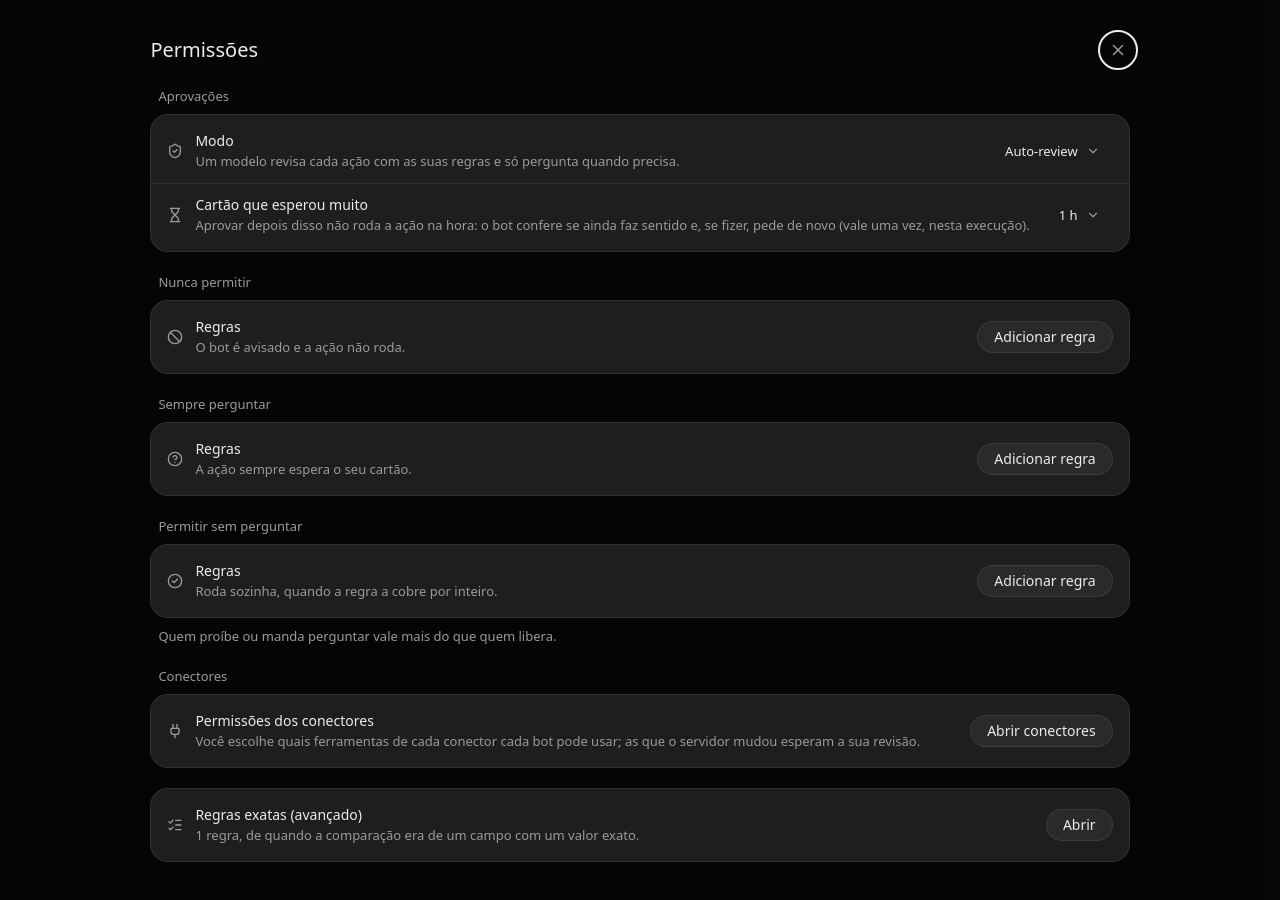
Test: Permissões: the old exact rules › one quiet row at the end with the count; it opens the old list to read and remove
Later steps or results of the test are not shown.
Expected: the element with test id "rules-exact" shows "Regras exatas (avançado)", x1=195 y1=805 x2=362 y2=824
Expected: the element with test id "rules-exact" shows "1 regra", x1=195 y1=826 x2=639 y2=844
Step 1. Click the button with test id "rules-exact-open" → [1079, 825], box x1=1046 y1=809 x2=1113 y2=841
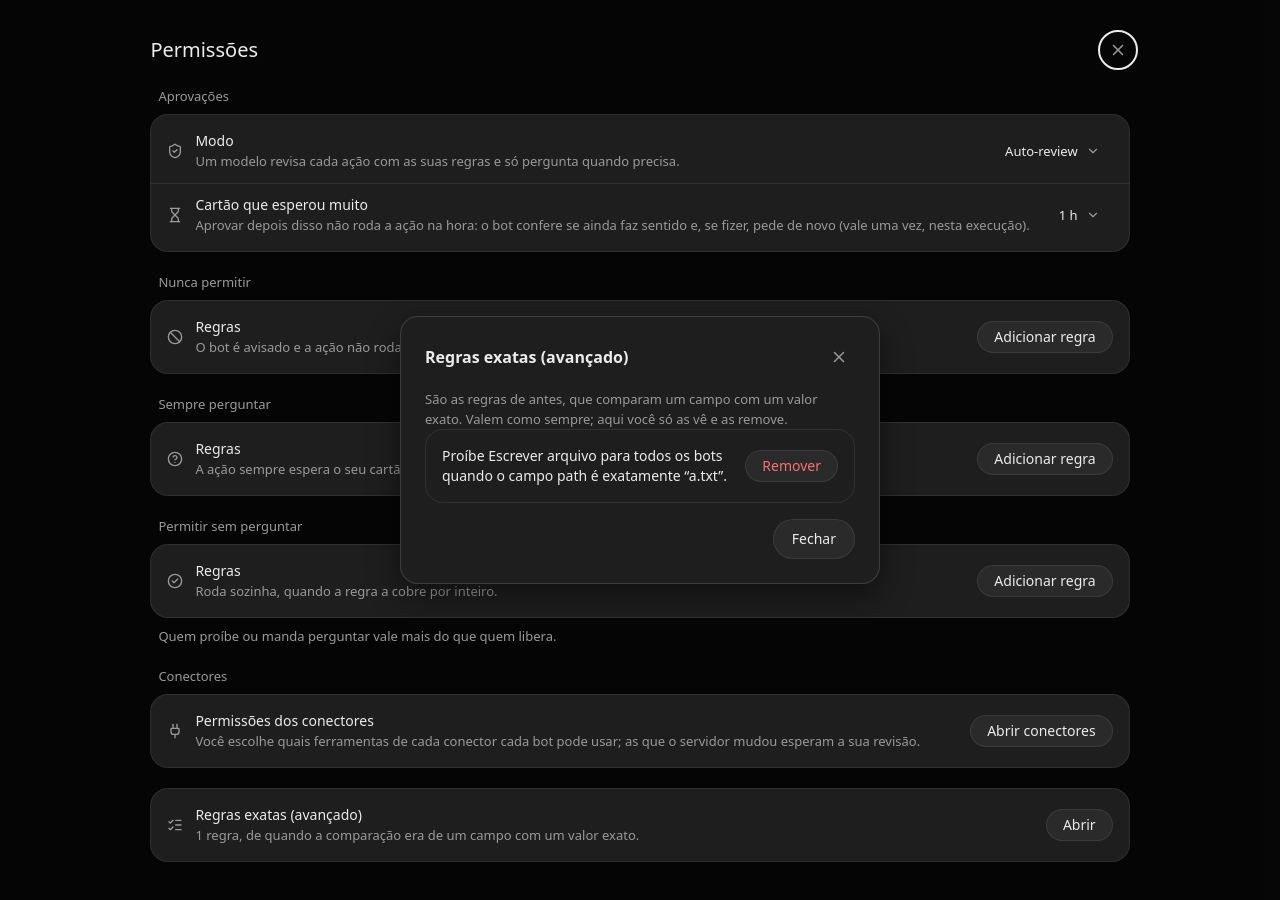
Expected: the text with test id "rule-sentence" shows "“a.txt”", x1=442 y1=446 x2=727 y2=485
